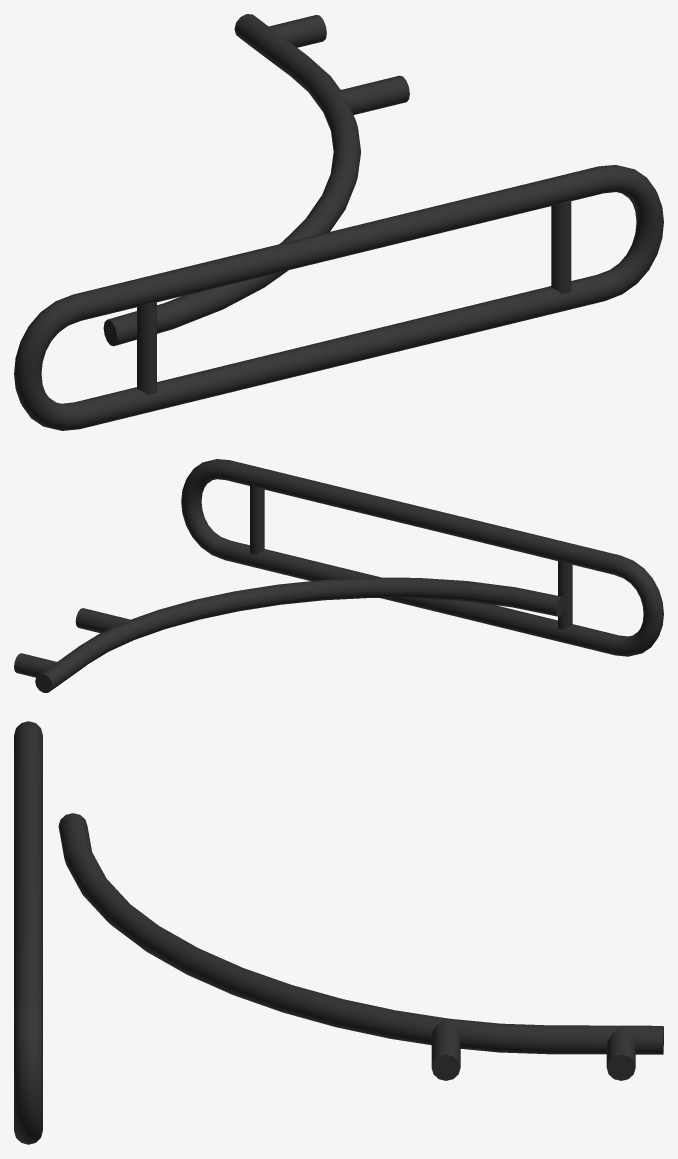
Rendered from Urbi_3 einfach 8m_x1250_y-1230.obj.
3 renders of one model, top to bottom at view 1: azimuth 30°, elevation 25°; view 2: azimuth 150°, elevation 25°; view 3: azimuth 270°, elevation 25°, orthographic. The views are drawn at different scales.
Parts seen in each view (by area): view 1: Querträger_einfach_Querträger_einfach.005, Bogenausleger_Bogenausleger_mittel.003, Querträgerstreben_Querträgerstreben.006; view 2: Querträger_einfach_Querträger_einfach.005, Bogenausleger_Bogenausleger_mittel.003, Querträgerstreben_Querträgerstreben.006; view 3: Bogenausleger_Bogenausleger_mittel.003, Querträger_einfach_Querträger_einfach.005.
Part boxes in pixels (box(x1,y1,x2,y2)): Querträger_einfach_Querträger_einfach.005: box(14, 165, 663, 430); Bogenausleger_Bogenausleger_mittel.003: box(103, 14, 409, 346); Querträgerstreben_Querträgerstreben.006: box(137, 200, 571, 395); Querträger_einfach_Querträger_einfach.005: box(181, 459, 663, 656); Bogenausleger_Bogenausleger_mittel.003: box(14, 577, 565, 692); Querträgerstreben_Querträgerstreben.006: box(250, 485, 572, 630); Bogenausleger_Bogenausleger_mittel.003: box(58, 813, 663, 1080); Querträger_einfach_Querträger_einfach.005: box(14, 721, 42, 1144).
Size of the model in its own units: 1.63 by 0.3199 by 1.34.
Materials: 1 (1 with a texture image).
